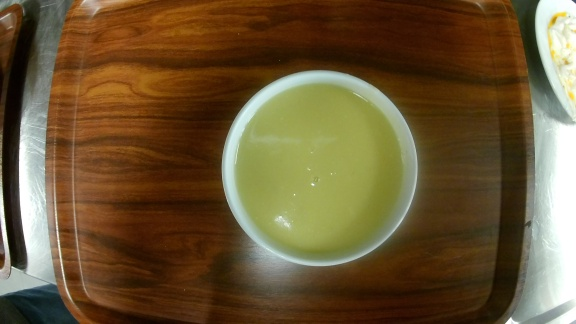mercimek: (219, 70, 421, 270)
